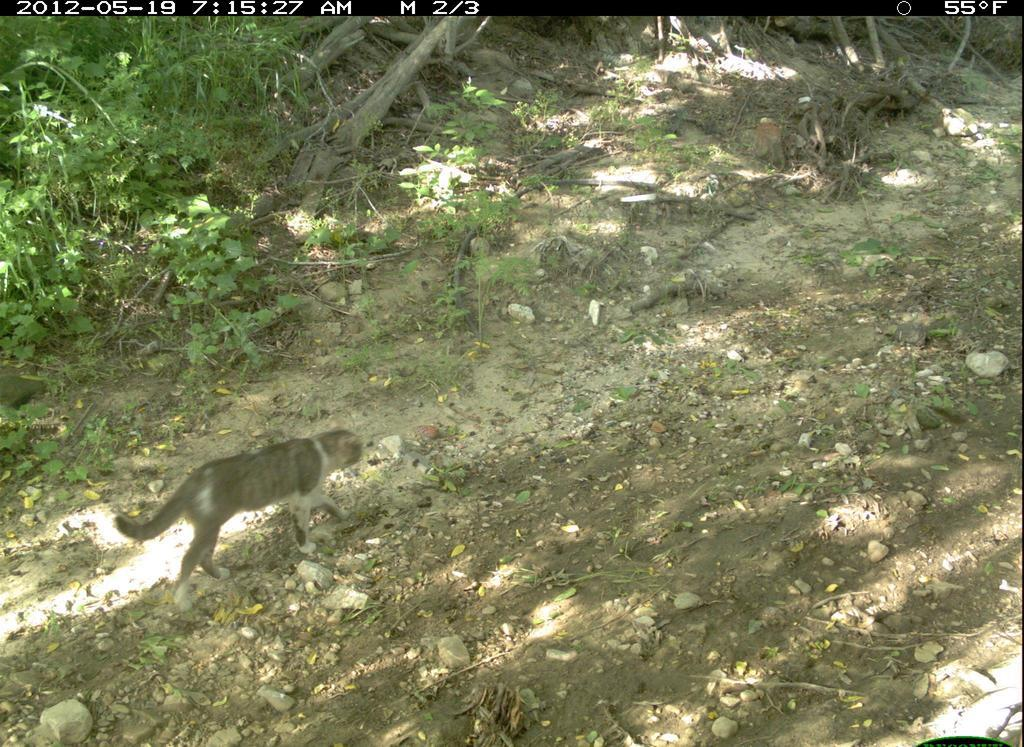cat: (107, 416, 365, 617)
